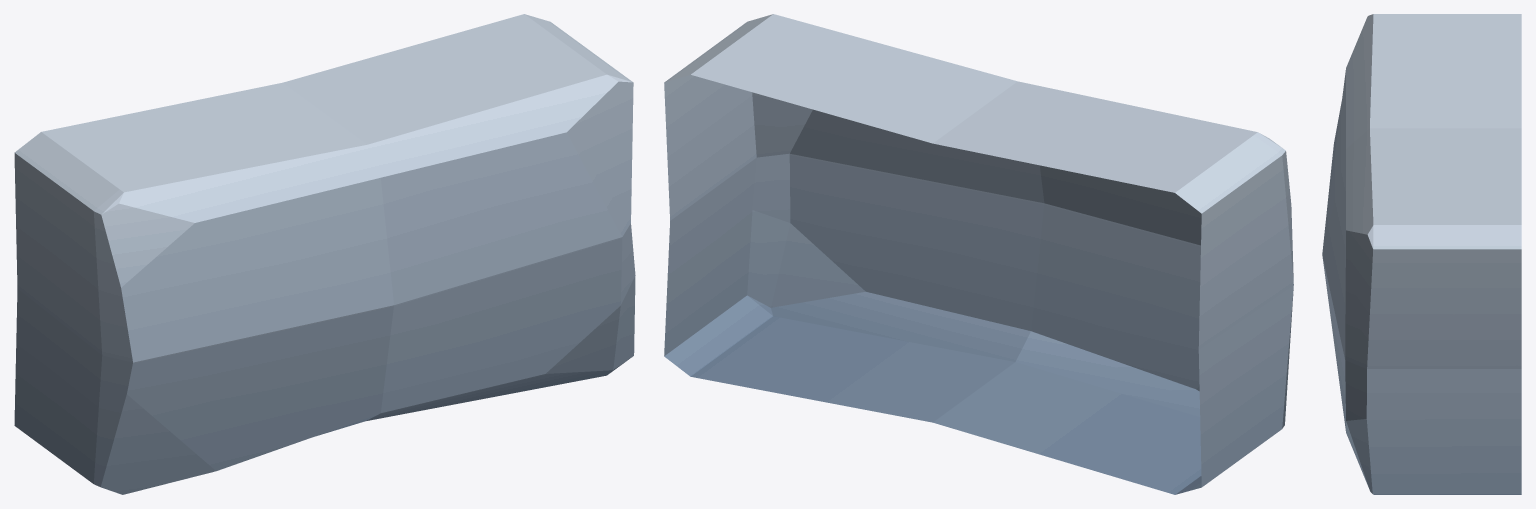
File: Brick.fbx
3 renders of one model, left to right at view 1: azimuth 30°, elevation 25°; view 2: azimuth 150°, elevation 25°; view 3: azimuth 270°, elevation 25°, orthographic. The views are drawn at different scales.
Parts seen in each view (by area): view 1: brick_Adjusted; view 2: brick_Adjusted; view 3: brick_Adjusted.
Boxes of the visible parts, <box> form: brick_Adjusted: <box>14,14,635,494</box>; brick_Adjusted: <box>664,14,1293,494</box>; brick_Adjusted: <box>1322,14,1521,494</box>.
Size of the model in its own units: 22.52 by 12.04 by 8.06.
